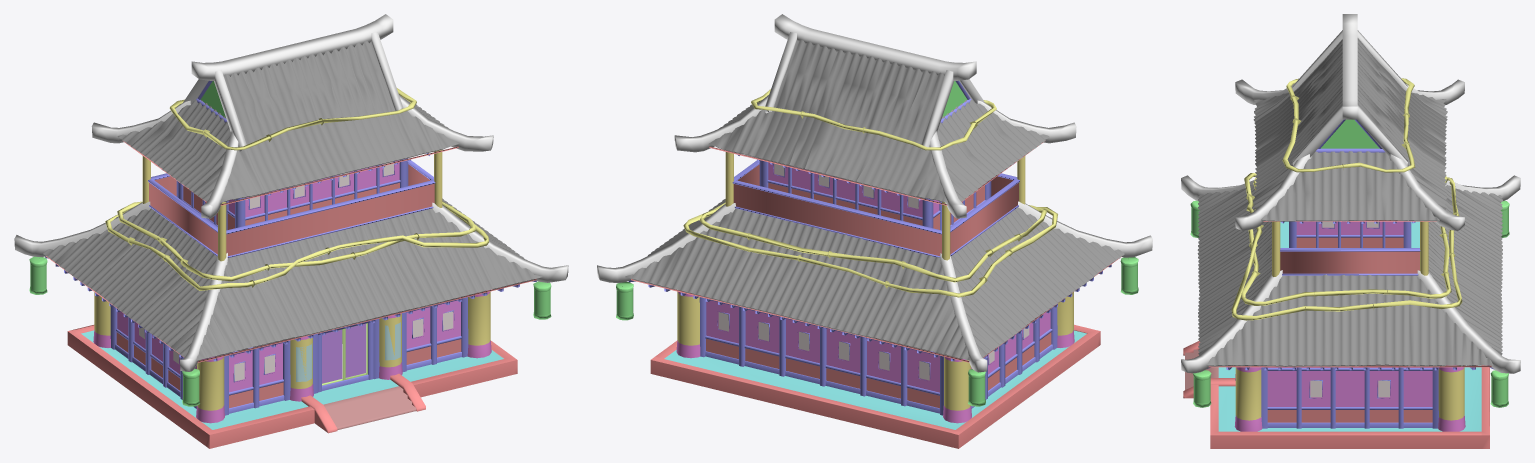
File: SM_ENV_LKNVLD_Building_C_Lod3.gltf
3 renders of one model, left to right at view 1: azimuth 30°, elevation 25°; view 2: azimuth 150°, elevation 25°; view 3: azimuth 270°, elevation 25°, orthographic.
Parts seen in each view (by area): view 1: SM_ENV_LKNVLD_Building_C_Lod3; view 2: SM_ENV_LKNVLD_Building_C_Lod3; view 3: SM_ENV_LKNVLD_Building_C_Lod3.
Boxes of the visible parts, <box> form: SM_ENV_LKNVLD_Building_C_Lod3: <box>14,14,568,448</box>; SM_ENV_LKNVLD_Building_C_Lod3: <box>597,14,1152,448</box>; SM_ENV_LKNVLD_Building_C_Lod3: <box>1181,14,1520,448</box>.
Size of the model in its own units: 26.35 by 20.58 by 20.18.
